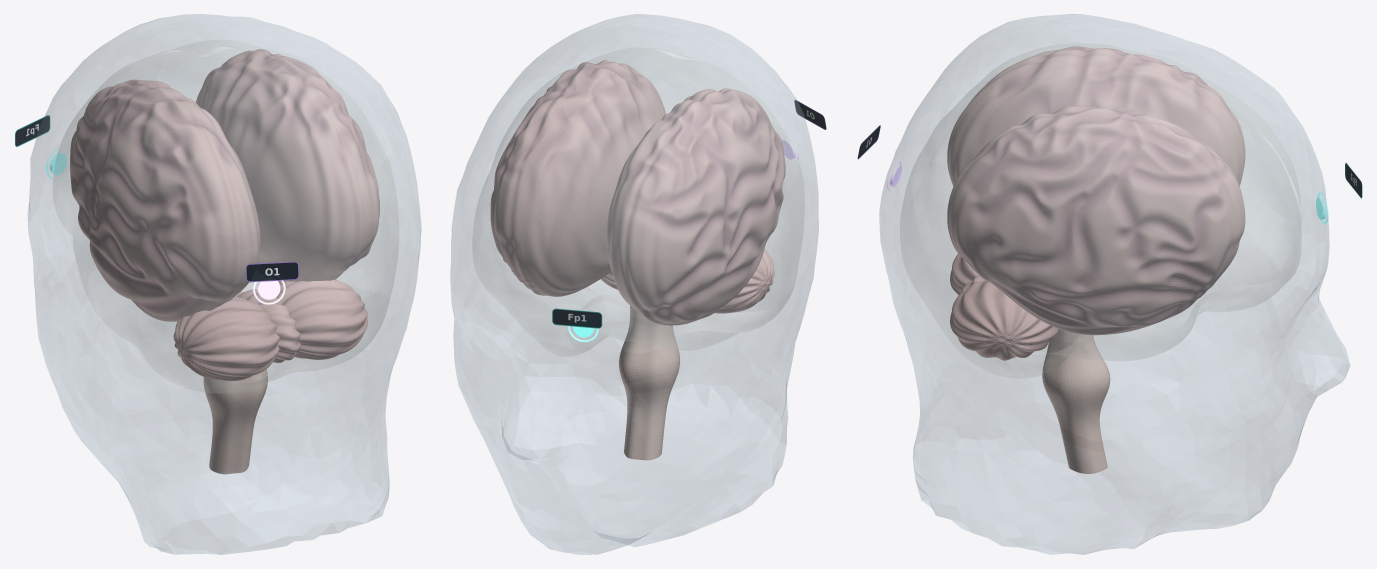
The model's file is brain_full.glb.
3 views of the same model, side by side, from view 1: azimuth 30°, elevation 25°; view 2: azimuth 150°, elevation 25°; view 3: azimuth 270°, elevation 25° (orthographic). The views are drawn at different scales.
Visible parts, largest first — view 1: Head_Scalp, Brain_Left, Brain_Right, Skull, Cerebellum, Brainstem, Label_O1, Label_Fp1; view 2: Head_Scalp, Brain_Left, Brain_Right, Skull, Brainstem, Cerebellum, Label_Fp1; view 3: Head_Scalp, Brain_Right, Skull, Brain_Left, Brainstem, Cerebellum.
Boxes of the visible parts, x1=… form: Head_Scalp: x1=28, y1=14, x2=421, y2=554; Brain_Left: x1=70, y1=79, x2=260, y2=321; Brain_Right: x1=196, y1=49, x2=379, y2=284; Skull: x1=53, y1=40, x2=398, y2=392; Cerebellum: x1=173, y1=279, x2=367, y2=380; Brainstem: x1=203, y1=291, x2=267, y2=474; Label_O1: x1=245, y1=261, x2=298, y2=282; Label_Fp1: x1=15, y1=115, x2=50, y2=146; Head_Scalp: x1=450, y1=14, x2=818, y2=554; Brain_Left: x1=606, y1=88, x2=785, y2=325; Brain_Right: x1=490, y1=60, x2=665, y2=296; Skull: x1=473, y1=47, x2=803, y2=356; Brainstem: x1=619, y1=305, x2=679, y2=460; Cerebellum: x1=601, y1=249, x2=774, y2=313; Label_Fp1: x1=552, y1=308, x2=602, y2=328; Head_Scalp: x1=879, y1=14, x2=1349, y2=554; Brain_Right: x1=947, y1=105, x2=1245, y2=335; Skull: x1=900, y1=43, x2=1300, y2=378; Brain_Left: x1=947, y1=46, x2=1245, y2=186; Brainstem: x1=1042, y1=329, x2=1110, y2=473; Cerebellum: x1=950, y1=254, x2=1058, y2=360.
Bounding box in the file's own units: 0.1691 × 0.2634 × 0.2372.
Materials: 10 (2 with a texture image).
